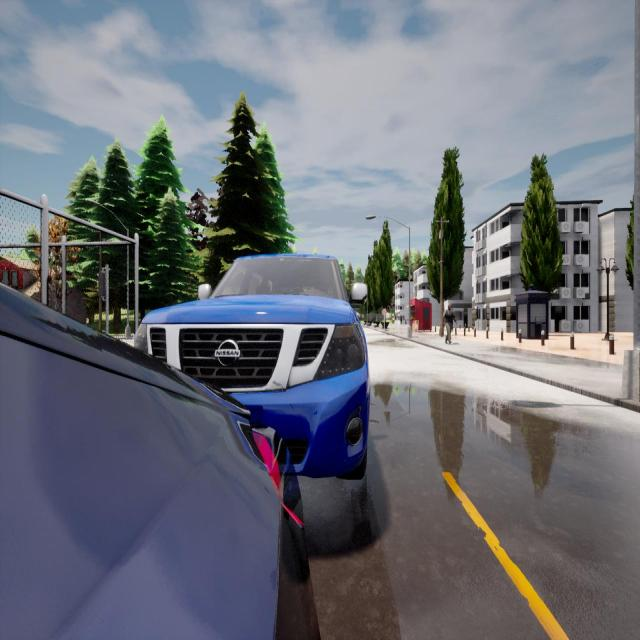Pedestrian: (442, 304, 456, 344)
Traffic_Signs: (382, 309, 387, 315)
Vehicle: (0, 287, 316, 638), (135, 256, 367, 476)
traffic_light: (99, 273, 106, 296)
